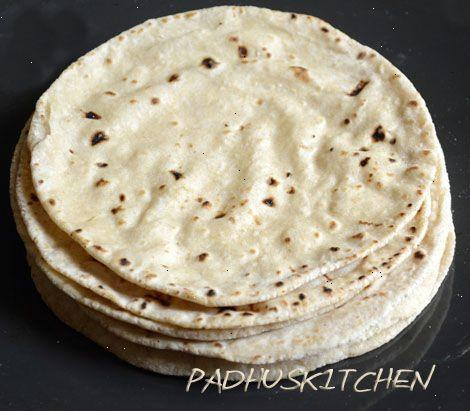roti phulka: (7, 0, 457, 363)
